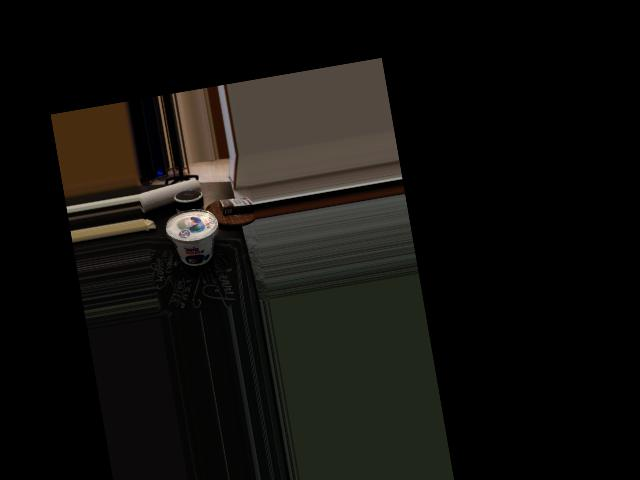cotage: (163, 205, 222, 273)
